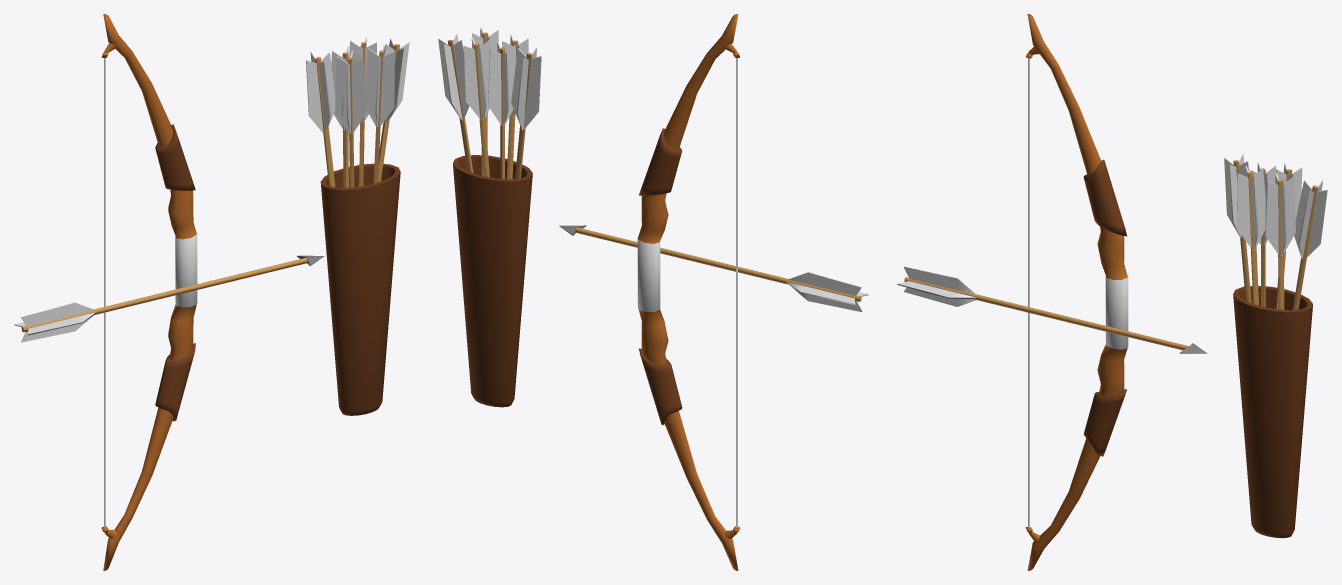
File: Bow.fbx
The picture shows the model from 3 angles, left to right: view 1: azimuth 30°, elevation 25°; view 2: azimuth 150°, elevation 25°; view 3: azimuth 330°, elevation 25°; orthographic projection.
Parts seen in each view (by area): view 1: Arrow_Quiver, Bow, Arrow, 1Bow_Trio 1.003; view 2: Arrow_Quiver, Bow, Arrow, 1Bow_Trio 1.003; view 3: Arrow_Quiver, Bow, Arrow, 1Bow_Trio 1.003.
Boxes of the visible parts, left/top/right/bottom form: Arrow_Quiver: left=306, top=37, right=409, bottom=415; Bow: left=101, top=14, right=197, bottom=570; Arrow: left=14, top=255, right=324, bottom=342; 1Bow_Trio 1.003: left=104, top=58, right=105, bottom=527; Arrow_Quiver: left=438, top=27, right=541, bottom=407; Bow: left=637, top=14, right=740, bottom=570; Arrow: left=559, top=225, right=868, bottom=311; 1Bow_Trio 1.003: left=736, top=58, right=737, bottom=527; Arrow_Quiver: left=1224, top=154, right=1327, bottom=538; Bow: left=1025, top=14, right=1128, bottom=570; Arrow: left=897, top=267, right=1207, bottom=353; 1Bow_Trio 1.003: left=1028, top=58, right=1029, bottom=527.
Size of the model in its own units: 208 by 272 by 32.54.
